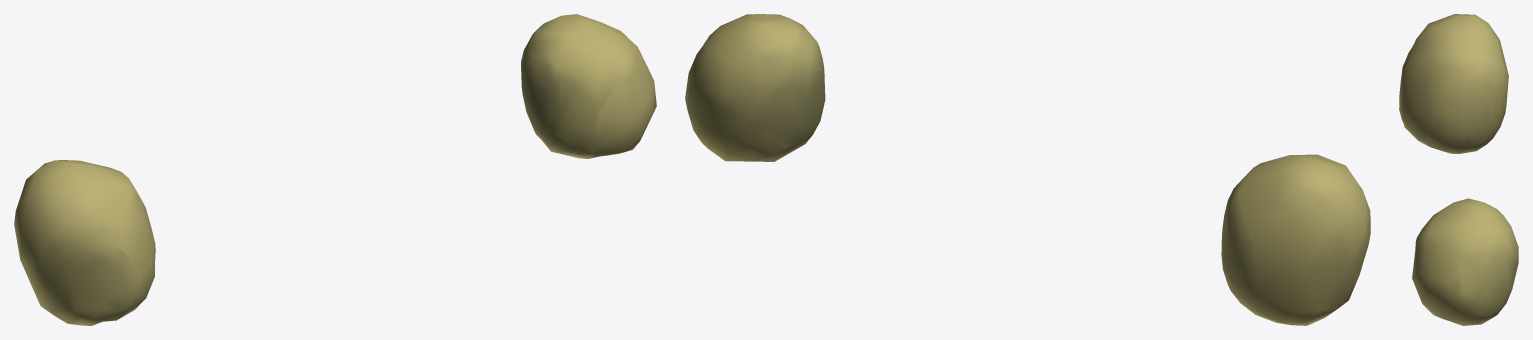
3 views of the same model, side by side, from view 1: azimuth 30°, elevation 25°; view 2: azimuth 150°, elevation 25°; view 3: azimuth 270°, elevation 25° (orthographic). The views are drawn at different scales.
Visible parts, largest first — view 1: LOD 0_5261851821754165480_820756dedd5b3434c8e6bed8ae6a193b; view 2: LOD 0_5261851821754165480_820756dedd5b3434c8e6bed8ae6a193b; view 3: LOD 0_5261851821754165480_820756dedd5b3434c8e6bed8ae6a193b.
Boxes of the visible parts, left/top/right/bottom form: LOD 0_5261851821754165480_820756dedd5b3434c8e6bed8ae6a193b: left=14, top=14, right=656, bottom=325; LOD 0_5261851821754165480_820756dedd5b3434c8e6bed8ae6a193b: left=685, top=14, right=1370, bottom=325; LOD 0_5261851821754165480_820756dedd5b3434c8e6bed8ae6a193b: left=1399, top=14, right=1518, bottom=325.
Size of the model in its own units: 1.17 by 0.2969 by 0.2405.
